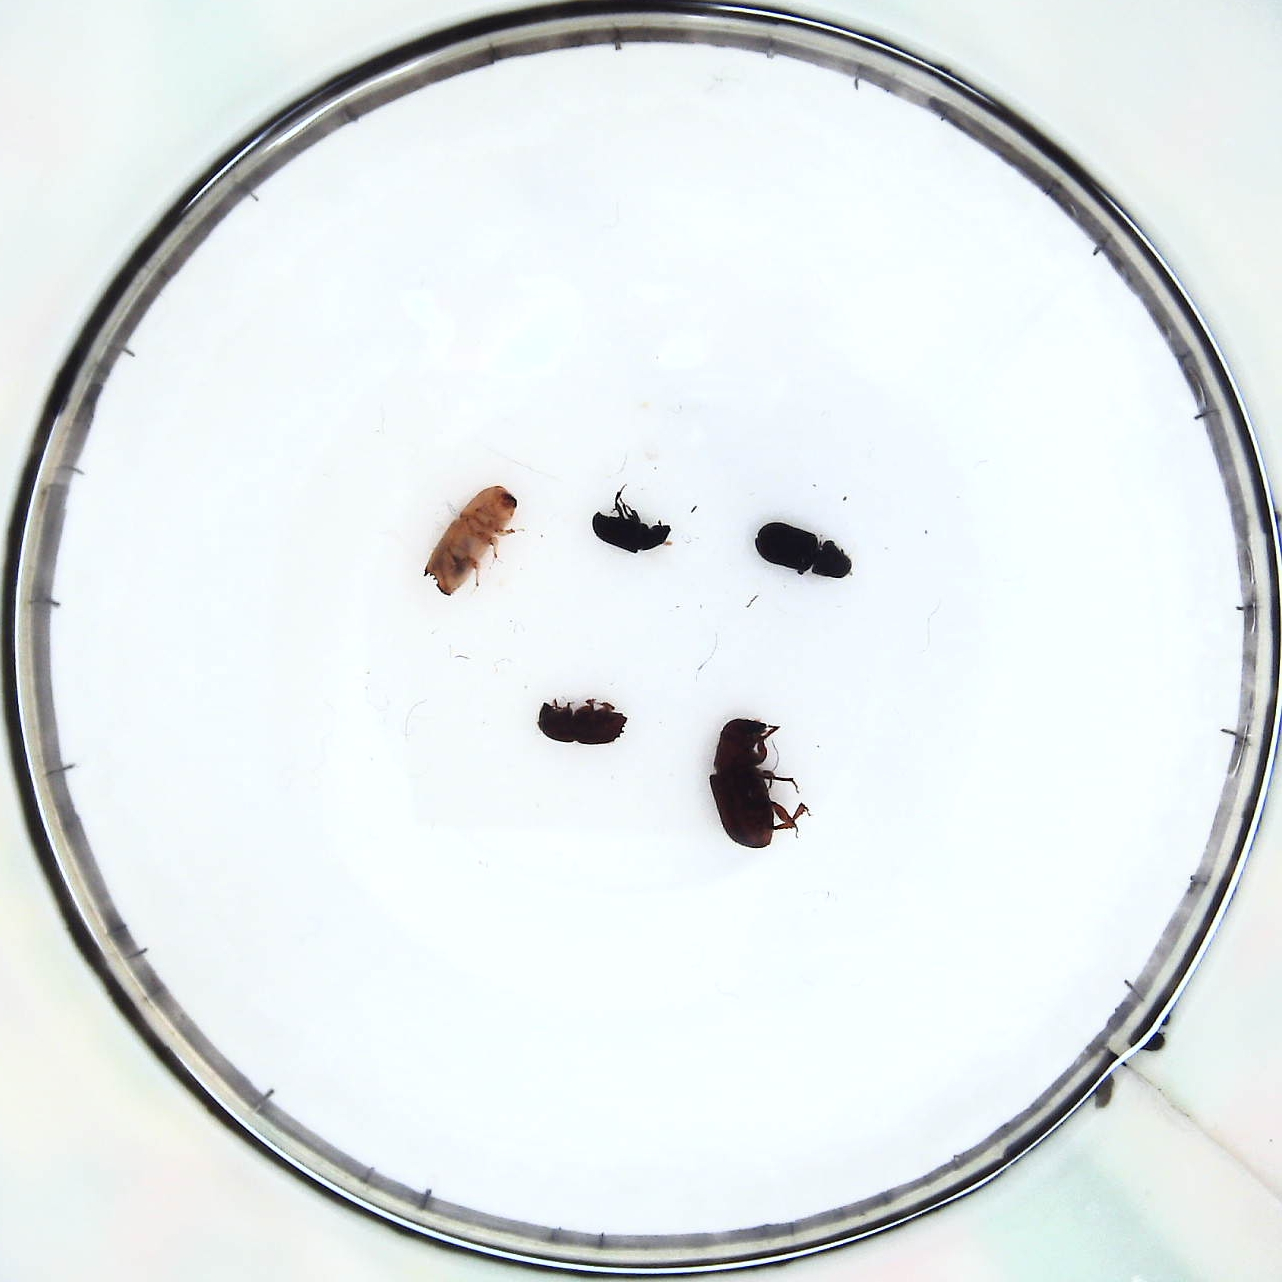Boerner: (419, 484, 515, 599)
Leconte: (706, 717, 787, 850)
Linnaeus: (542, 695, 628, 745)
armandi: (757, 517, 852, 578)
coleoptera: (589, 507, 676, 556)
